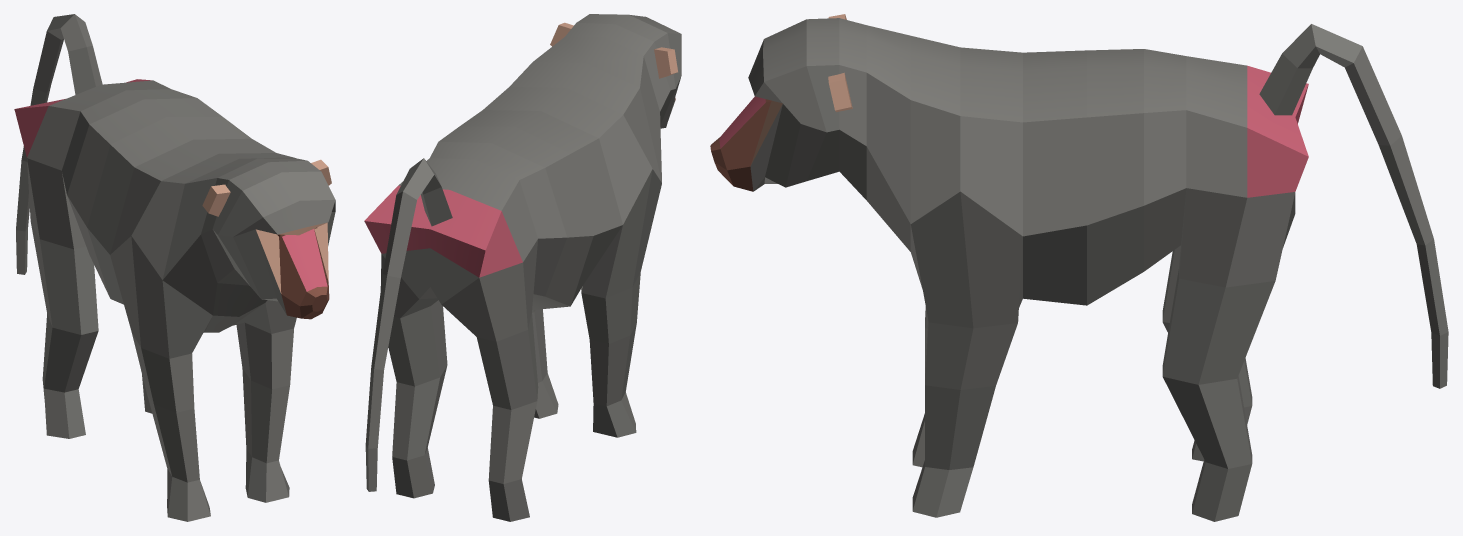
Rendered from 479fa09a-9e91-4335-8ffc-b86f68377a86.glb.
The picture shows the model from 3 angles, left to right: view 1: azimuth 30°, elevation 25°; view 2: azimuth 150°, elevation 25°; view 3: azimuth 270°, elevation 25°; orthographic projection. The views are drawn at different scales.
Parts seen in each view (by area): view 1: Geo_Baboon; view 2: Geo_Baboon; view 3: Geo_Baboon.
Part boxes in pixels (box(x1,y1,x2,y2)): Geo_Baboon: box(14, 14, 335, 521); Geo_Baboon: box(364, 14, 681, 521); Geo_Baboon: box(710, 14, 1448, 521).
Size of the model in its own units: 52.26 by 107 by 157.
1 material, 1 textured.
